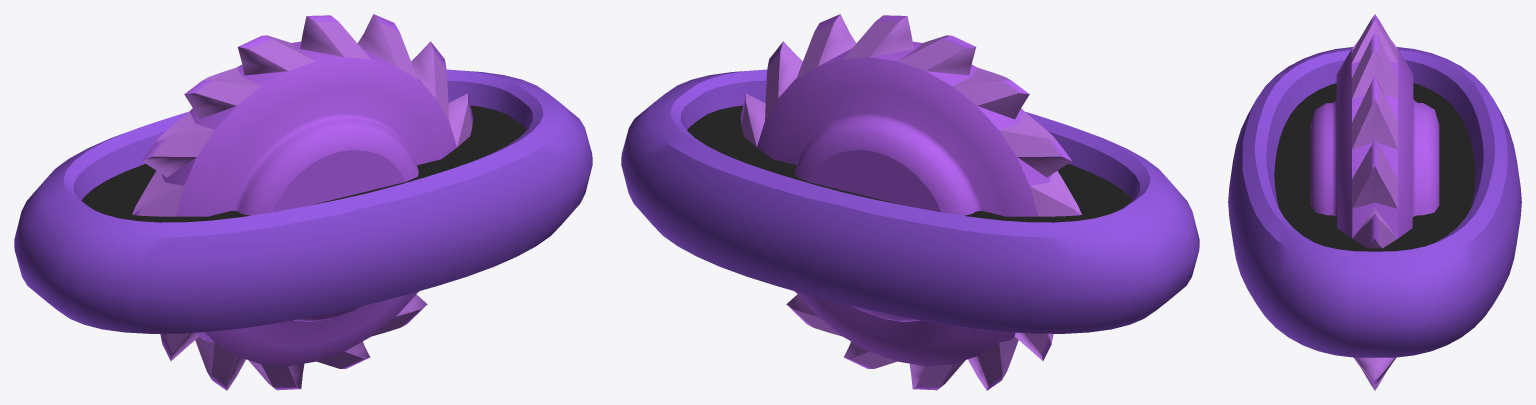
Rendered from whell.fbx.
The picture shows the model from 3 angles, left to right: view 1: azimuth 30°, elevation 25°; view 2: azimuth 150°, elevation 25°; view 3: azimuth 270°, elevation 25°; orthographic projection. The views are drawn at different scales.
Parts seen in each view (by area): view 1: wheel, whell; view 2: wheel, whell; view 3: wheel, whell.
Boxes of the visible parts, left/top/right/bottom form: wheel: left=14, top=69, right=592, bottom=333; whell: left=132, top=14, right=473, bottom=390; wheel: left=621, top=69, right=1199, bottom=333; whell: left=740, top=14, right=1081, bottom=390; wheel: left=1228, top=47, right=1521, bottom=357; whell: left=1310, top=14, right=1439, bottom=390.
Bounding box in the file's own units: 136 × 88.7 × 68.68.
